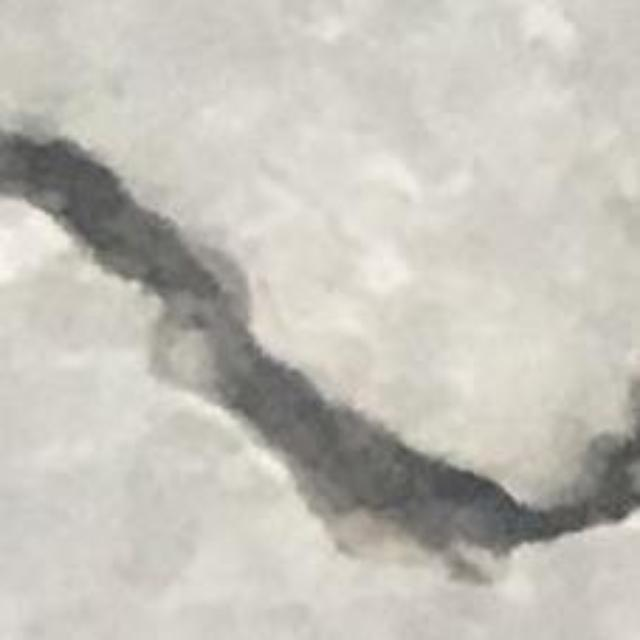crack: (0, 130, 639, 580)
